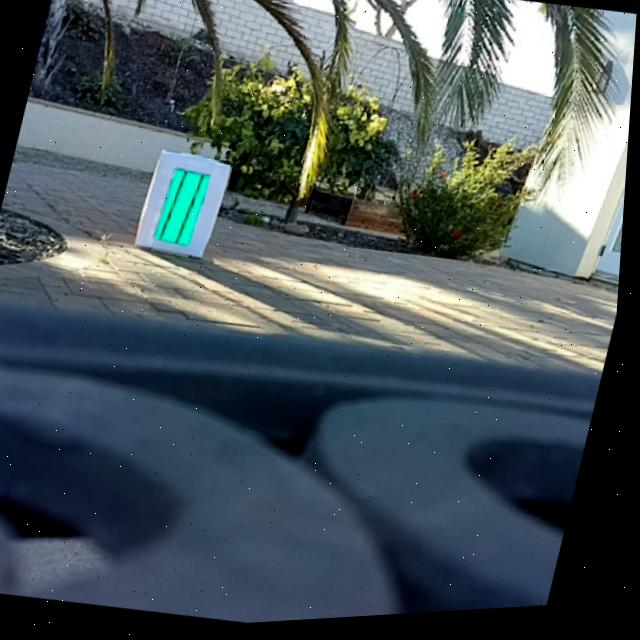led: (156, 164, 213, 248)
